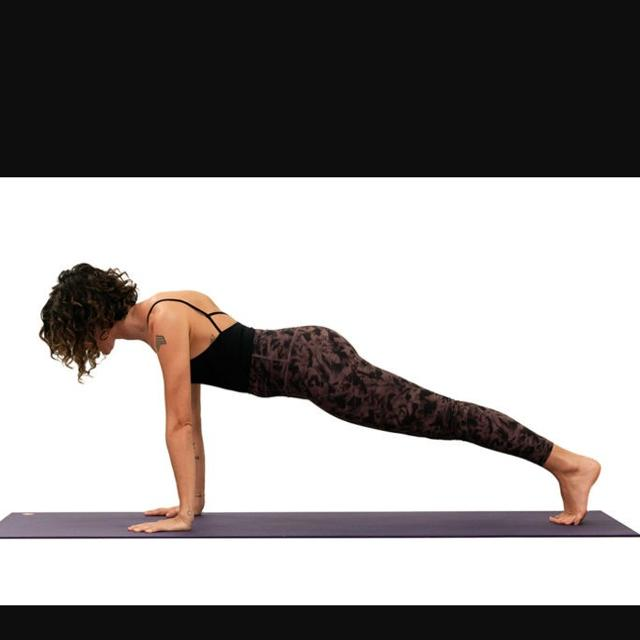Plank_Pose: (35, 258, 606, 546)
